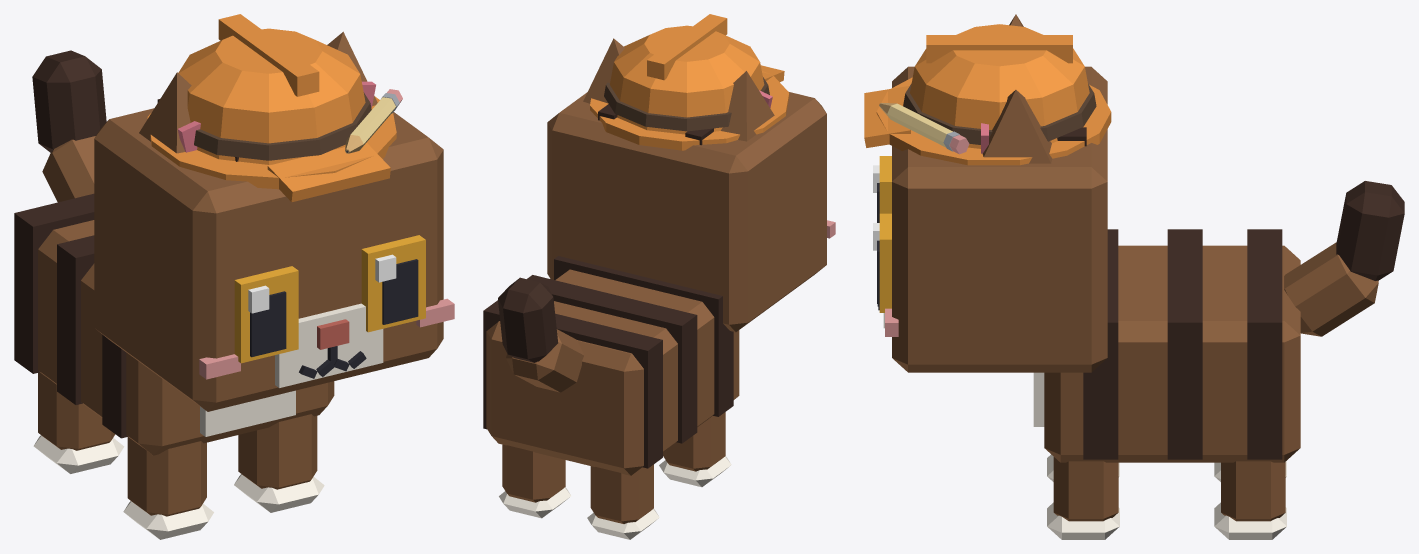
The model's file is CatCafe_Cat_Builder.glb.
The picture shows the model from 3 angles, left to right: view 1: azimuth 30°, elevation 25°; view 2: azimuth 150°, elevation 25°; view 3: azimuth 270°, elevation 25°; orthographic projection. The views are drawn at different scales.
Visible parts, largest first — view 1: CatCafe_Cat_Builder_Head, CatCafe_Cat_Builder_Prop, CatCafe_Cat_Builder_Body, CatCafe_Cat_Builder_Tail, CatCafe_Cat_Builder_LegF2, CatCafe_Cat_Builder_LegF1, CatCafe_Cat_Builder_Eye2, CatCafe_Cat_Builder_Eye1, CatCafe_Cat_Builder_LegB2, CatCafe_Cat_Builder_EarR, CatCafe_Cat_Builder_EarL; view 2: CatCafe_Cat_Builder_Head, CatCafe_Cat_Builder_Body, CatCafe_Cat_Builder_Prop, CatCafe_Cat_Builder_Tail, CatCafe_Cat_Builder_LegB2, CatCafe_Cat_Builder_LegB1, CatCafe_Cat_Builder_LegF2, CatCafe_Cat_Builder_EarR, CatCafe_Cat_Builder_EarL; view 3: CatCafe_Cat_Builder_Body, CatCafe_Cat_Builder_Head, CatCafe_Cat_Builder_Prop, CatCafe_Cat_Builder_Tail, CatCafe_Cat_Builder_LegF1, CatCafe_Cat_Builder_LegB1, CatCafe_Cat_Builder_EarL, CatCafe_Cat_Builder_Eye1, CatCafe_Cat_Builder_Eye2.
Boxes of the visible parts, x1,y1,x2,y2 form: CatCafe_Cat_Builder_Head: [94, 99, 454, 411]; CatCafe_Cat_Builder_Prop: [147, 14, 402, 202]; CatCafe_Cat_Builder_Body: [14, 193, 334, 455]; CatCafe_Cat_Builder_Tail: [32, 50, 106, 202]; CatCafe_Cat_Builder_LegF2: [123, 437, 213, 539]; CatCafe_Cat_Builder_LegF1: [234, 414, 324, 512]; CatCafe_Cat_Builder_Eye2: [234, 266, 298, 363]; CatCafe_Cat_Builder_Eye1: [361, 235, 425, 332]; CatCafe_Cat_Builder_LegB2: [33, 372, 124, 473]; CatCafe_Cat_Builder_EarR: [139, 72, 200, 153]; CatCafe_Cat_Builder_EarL: [327, 31, 377, 107]; CatCafe_Cat_Builder_Head: [547, 92, 835, 332]; CatCafe_Cat_Builder_Body: [483, 256, 739, 475]; CatCafe_Cat_Builder_Prop: [590, 14, 789, 150]; CatCafe_Cat_Builder_Tail: [498, 277, 583, 392]; CatCafe_Cat_Builder_LegB2: [587, 464, 659, 539]; CatCafe_Cat_Builder_LegB1: [499, 444, 570, 518]; CatCafe_Cat_Builder_LegF2: [659, 412, 731, 487]; CatCafe_Cat_Builder_EarR: [721, 71, 774, 141]; CatCafe_Cat_Builder_EarL: [583, 38, 624, 103]; CatCafe_Cat_Builder_Body: [1033, 229, 1300, 462]; CatCafe_Cat_Builder_Head: [877, 66, 1107, 372]; CatCafe_Cat_Builder_Prop: [864, 24, 1111, 165]; CatCafe_Cat_Builder_Tail: [1284, 181, 1404, 336]; CatCafe_Cat_Builder_LegF1: [1047, 457, 1119, 539]; CatCafe_Cat_Builder_LegB1: [1214, 461, 1286, 539]; CatCafe_Cat_Builder_EarL: [981, 90, 1052, 163]; CatCafe_Cat_Builder_Eye1: [873, 213, 891, 312]; CatCafe_Cat_Builder_Eye2: [873, 156, 891, 222].
Size of the model in its own units: 1 by 1.91 by 2.
Materials: 1 (1 with a texture image).
